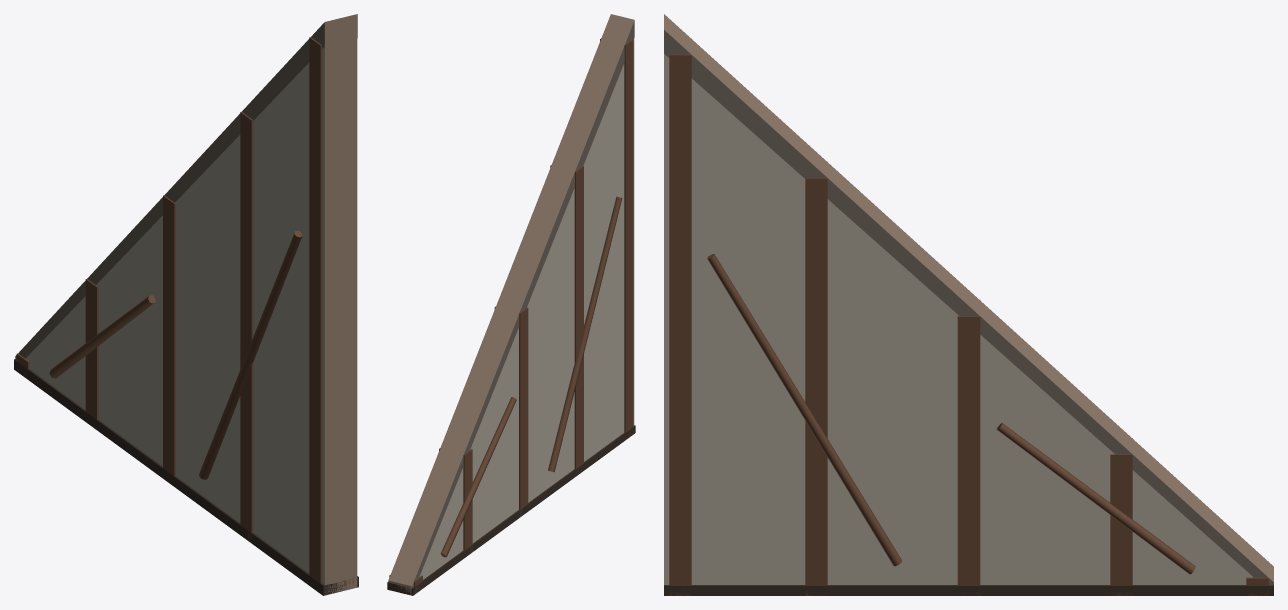
File: Wall_GableFill_45_Right.glb
The picture shows the model from 3 angles, left to right: view 1: azimuth 30°, elevation 25°; view 2: azimuth 150°, elevation 25°; view 3: azimuth 270°, elevation 25°; orthographic projection. The views are drawn at different scales.
Parts seen in each view (by area): view 1: _MeshInstance3D_3948, _MeshInstance3D_3954, _MeshInstance3D_3953, _MeshInstance3D_3949, _MeshInstance3D_3952, _MeshInstance3D_3957, _MeshInstance3D_3951, _MeshInstance3D_3955; view 2: _MeshInstance3D_3948, _MeshInstance3D_3954, _MeshInstance3D_3953, _MeshInstance3D_3949, _MeshInstance3D_3952, _MeshInstance3D_3957, _MeshInstance3D_3955, _MeshInstance3D_3951; view 3: _MeshInstance3D_3948, _MeshInstance3D_3954, _MeshInstance3D_3953, _MeshInstance3D_3949, _MeshInstance3D_3952, _MeshInstance3D_3958, _MeshInstance3D_3951, _MeshInstance3D_3956.
Part boxes in pixels (x1,y1,x2,y2): _MeshInstance3D_3948: [15, 14, 357, 594]; _MeshInstance3D_3954: [309, 37, 322, 583]; _MeshInstance3D_3953: [240, 111, 253, 542]; _MeshInstance3D_3949: [14, 359, 358, 595]; _MeshInstance3D_3952: [163, 195, 175, 482]; _MeshInstance3D_3957: [199, 230, 302, 479]; _MeshInstance3D_3951: [85, 279, 98, 429]; _MeshInstance3D_3955: [49, 295, 155, 378]; _MeshInstance3D_3948: [388, 14, 634, 595]; _MeshInstance3D_3954: [600, 38, 633, 439]; _MeshInstance3D_3953: [550, 165, 583, 475]; _MeshInstance3D_3949: [387, 425, 635, 595]; _MeshInstance3D_3952: [494, 306, 528, 516]; _MeshInstance3D_3957: [548, 196, 622, 472]; _MeshInstance3D_3955: [440, 397, 516, 557]; _MeshInstance3D_3951: [439, 448, 472, 555]; _MeshInstance3D_3948: [664, 14, 1273, 585]; _MeshInstance3D_3954: [669, 38, 691, 595]; _MeshInstance3D_3953: [805, 178, 827, 595]; _MeshInstance3D_3949: [664, 585, 1273, 595]; _MeshInstance3D_3952: [957, 300, 980, 595]; _MeshInstance3D_3958: [707, 254, 901, 566]; _MeshInstance3D_3951: [1110, 438, 1132, 595]; _MeshInstance3D_3956: [996, 423, 1195, 574].
Bounding box in the file's own units: 0.2607 × 3.07 × 3.
